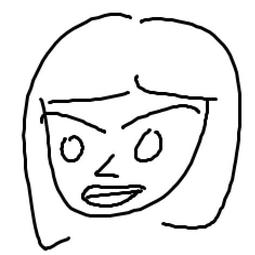empty_eye: (130, 128, 168, 165), (56, 133, 87, 168)
frowning_eyebrow: (117, 103, 204, 133), (36, 110, 108, 135)
open_mouth: (77, 181, 149, 210)
pointy_nose: (93, 153, 122, 181)
